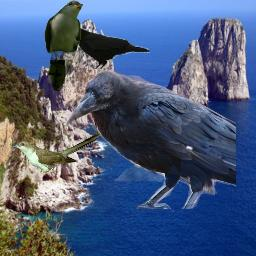Crow: (65, 67, 236, 209), (59, 25, 150, 70)
Cuckoo: (11, 132, 101, 173), (44, 0, 83, 91)
